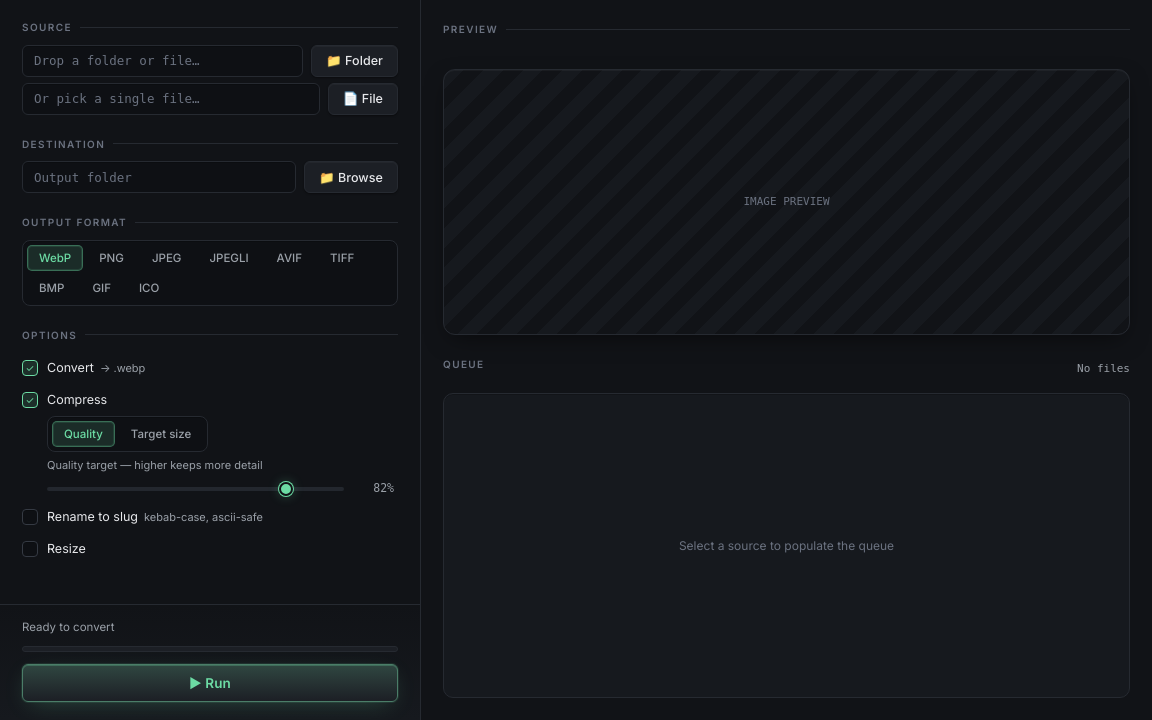
Test case: ImageConverter › switches to target size mode with KB/MB units
Click the button "Target size": x=161, y=434 [119,421,203,447]
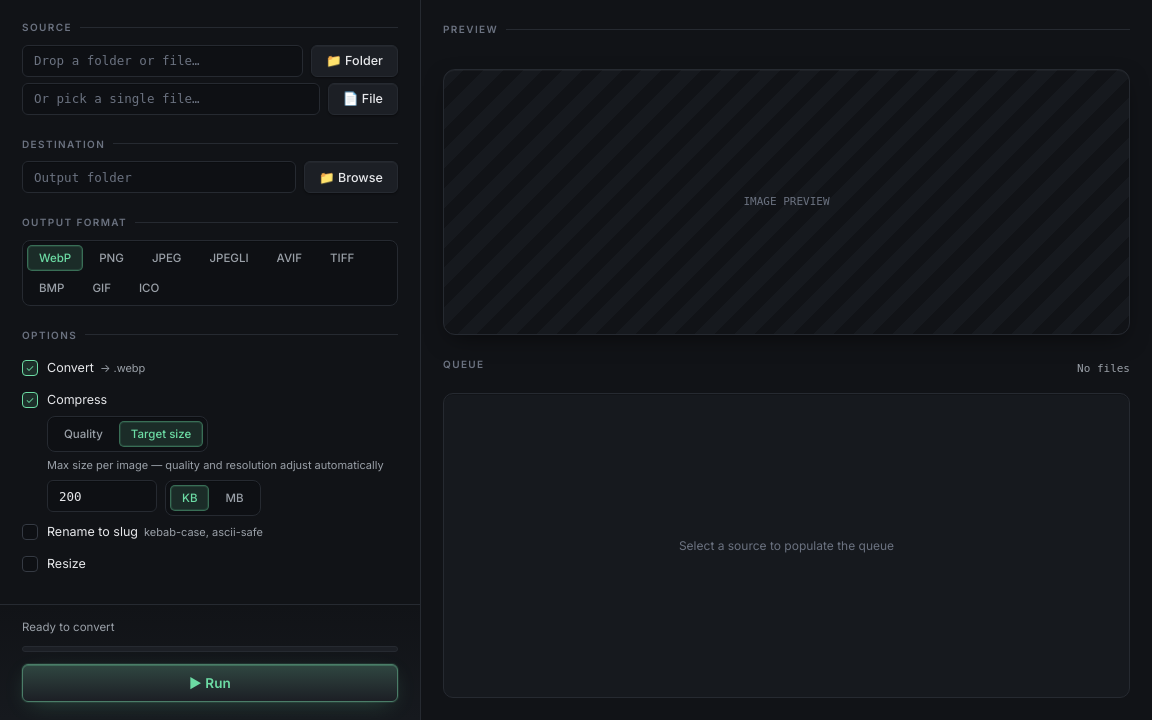
Check: the text "Max size per image" is shown, box [47,458,384,472]
Check: the button "KB" is shown, box [170,485,210,511]
Check: the button "MB" is shown, box [214,485,256,511]
